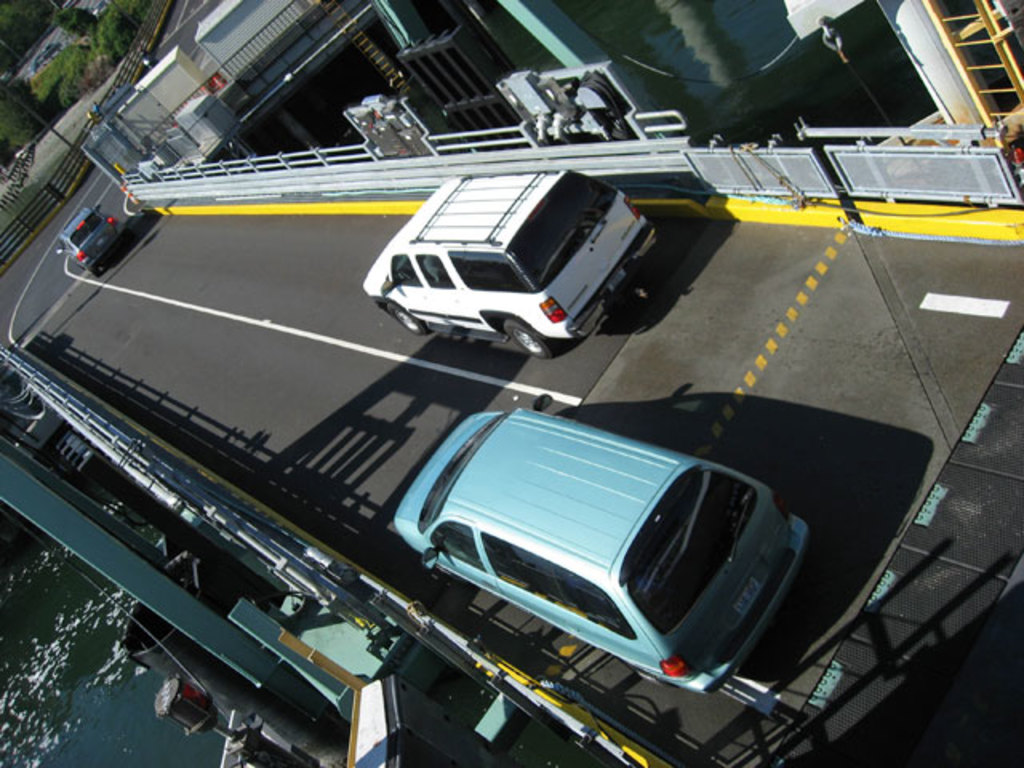Car: (391, 390, 811, 694), (358, 171, 659, 361), (57, 203, 120, 281)
